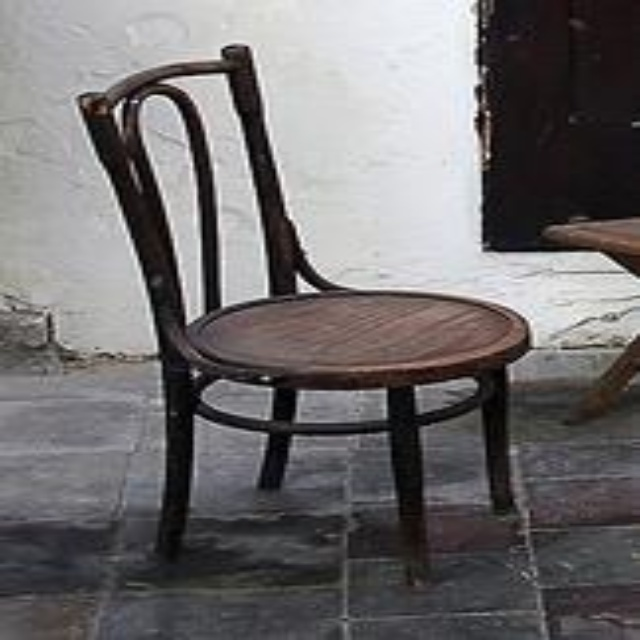obstacle: (79, 43, 525, 553)
